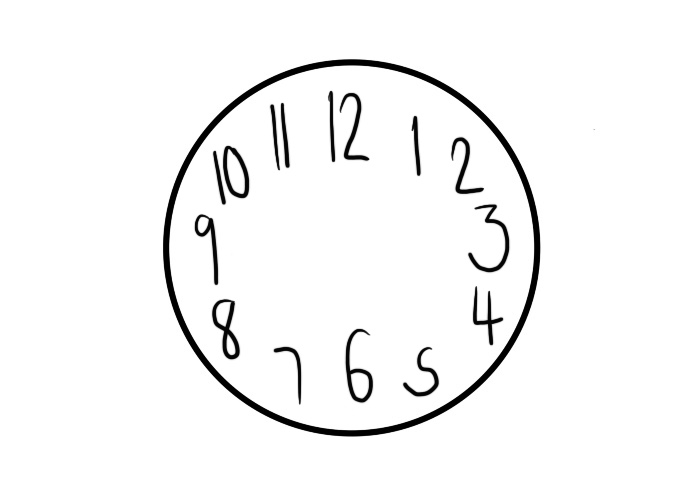eight: (210, 296, 243, 362)
eleven: (266, 99, 296, 175)
five: (402, 343, 440, 397)
four: (471, 286, 504, 346)
nine: (191, 210, 222, 288)
one: (406, 112, 430, 177)
seven: (272, 342, 307, 406)
six: (341, 323, 376, 407)
ten: (209, 143, 253, 206)
three: (467, 202, 510, 272)
twelve: (324, 81, 373, 163)
two: (449, 132, 485, 193)
